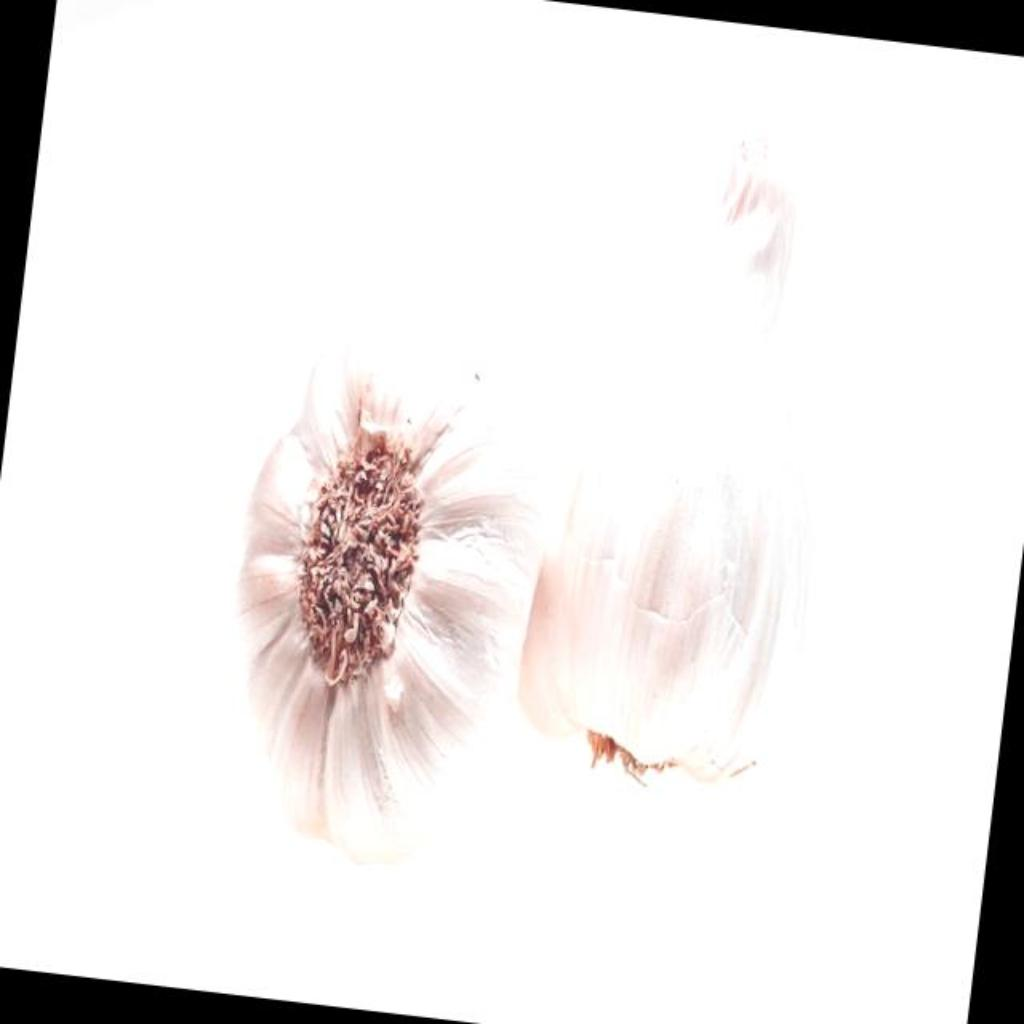garlic: (528, 155, 831, 792), (231, 367, 542, 860)
